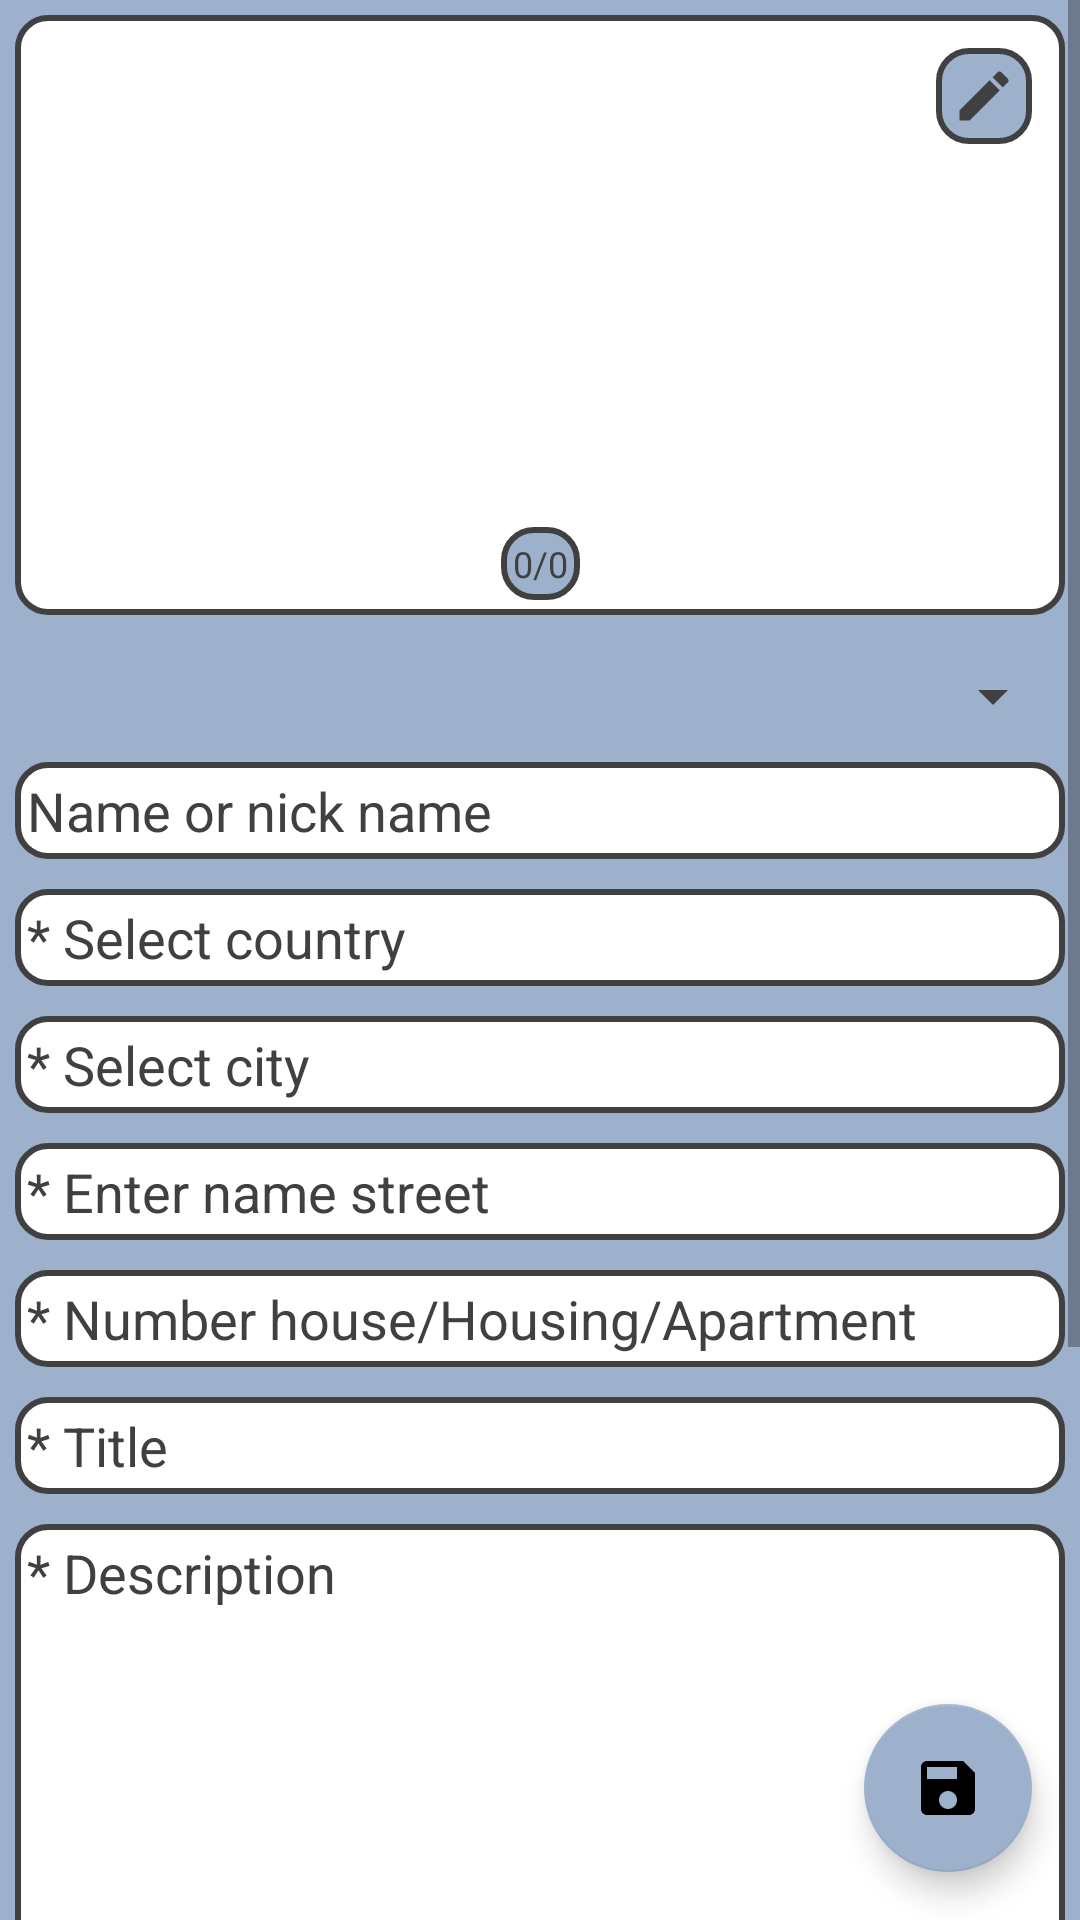

Icon bounding boxes for this 1080px x 1920px phone screenshot, format (x1, y1, x2, y2):
edit images: (936, 48, 1032, 144)
save photo: (864, 1704, 1032, 1872)
